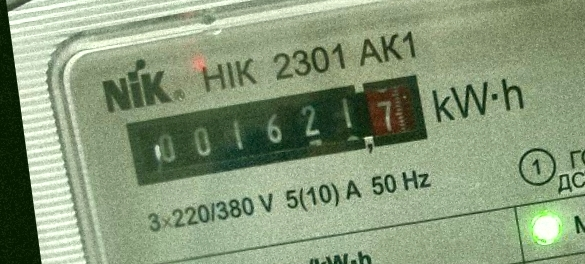0: (188, 121, 215, 160), (154, 128, 178, 164)
1: (227, 114, 246, 152), (336, 92, 355, 130)
2: (297, 100, 323, 139)
6: (261, 109, 284, 145)
7: (372, 95, 397, 133)
screen: (119, 70, 435, 191)
